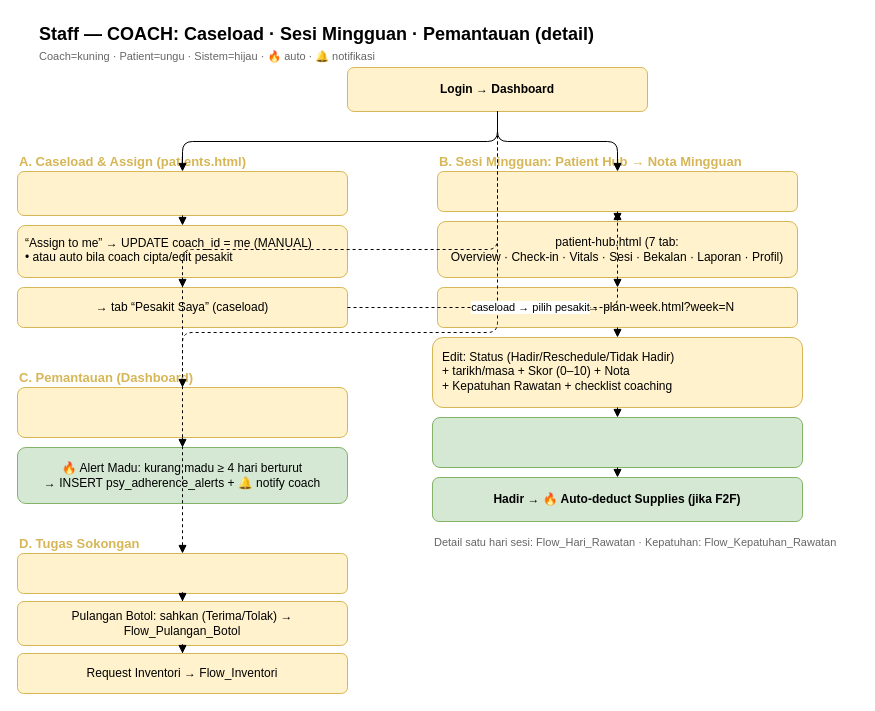
The diagram is 875 pixels wide and 711 high, and some of its shapes have lost their labels. The box of each missing label's shape, as (x1, y1, x2, y2) in pixels:
Auto-save → UPDATE psy_plan_weekly_progress + psy_plan_compliance: (432, 416, 802, 468)
caseload · check-in 7 hari % · low compliance (<4/7 hari): (16, 386, 348, 438)
patients.html → tab “Belum Ditugaskan” (!coach_id): (16, 170, 348, 216)
weekly-plan.html (kalendar sesi mingguan): (16, 552, 348, 594)
“Pesakit Saya” → klik Lihat: (436, 170, 798, 212)
